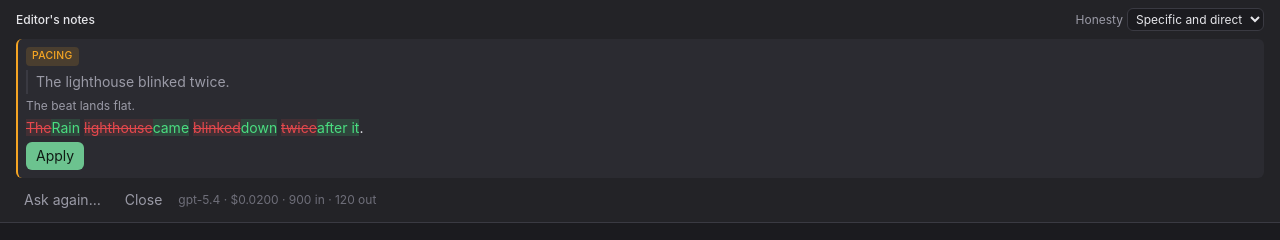
Test: CritiquePanel (F-14.8) › marks a note stale when its passage is gone and says why Apply is off
Click the button with test id "critique-apply" at (55, 156), box [26,142,84,170]
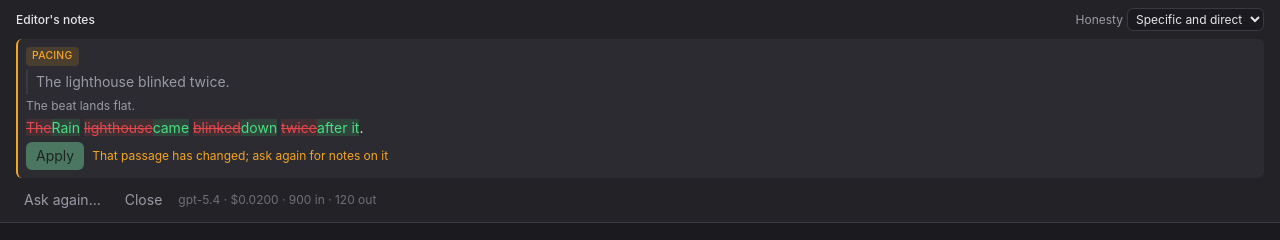
Expected: the button with test id "critique-apply" is disabled, [26,142,84,170]
Expected: the text with test id "critique-stale" reads "That passage has changed; ask again for notes on it", [92,148,388,163]
